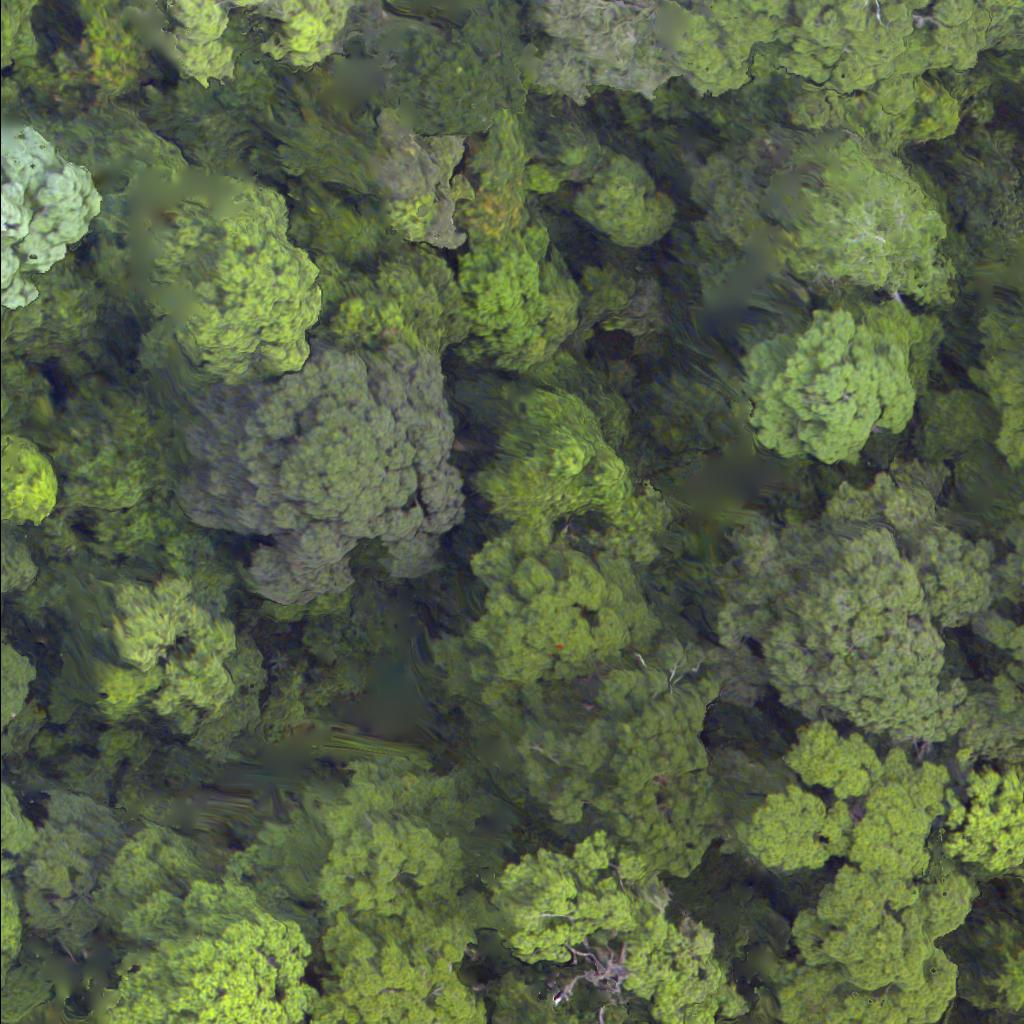crown: (708, 461, 981, 770), (175, 355, 484, 623), (747, 729, 994, 1023), (477, 839, 750, 1023), (113, 185, 348, 379), (747, 309, 937, 464), (0, 116, 134, 312), (113, 899, 322, 1023), (97, 570, 250, 731), (512, 0, 683, 117), (938, 754, 1023, 892), (574, 157, 677, 251), (977, 281, 1023, 476), (997, 529, 1023, 743), (975, 0, 1023, 60), (0, 803, 3, 936)
